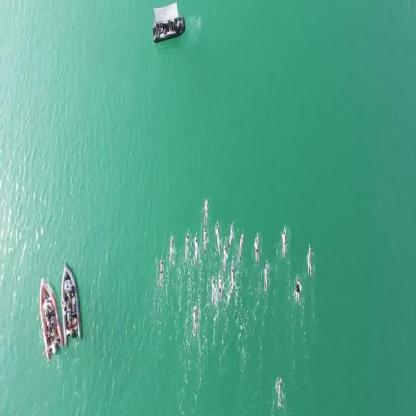Boat: (60, 261, 82, 336), (38, 278, 60, 353)
